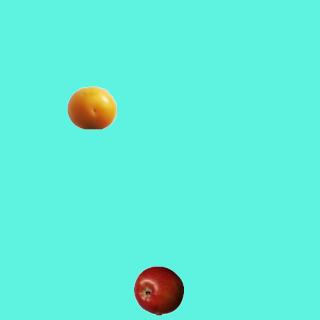Apple Braeburn: (133, 265, 183, 315)
Cherry Wax Yellow: (66, 82, 116, 132)
